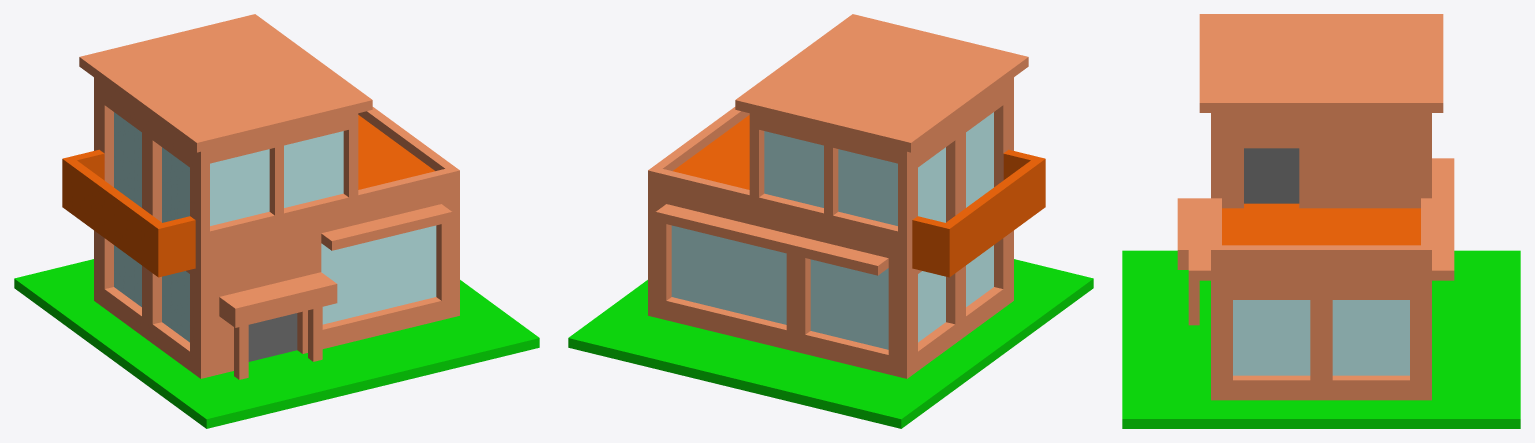
The model's file is building_09.fbx.
3 renders of one model, left to right at view 1: azimuth 30°, elevation 25°; view 2: azimuth 150°, elevation 25°; view 3: azimuth 270°, elevation 25°, orthographic. The views are drawn at different scales.
Visible parts, largest first — view 1: building_09; view 2: building_09; view 3: building_09.
Boxes of the visible parts, x1=… form: building_09: x1=14, y1=14, x2=539, y2=428; building_09: x1=568, y1=14, x2=1093, y2=428; building_09: x1=1122, y1=14, x2=1520, y2=428.
Size of the model in its own units: 360 by 260 by 360.
Materials: 1 (1 with a texture image).
